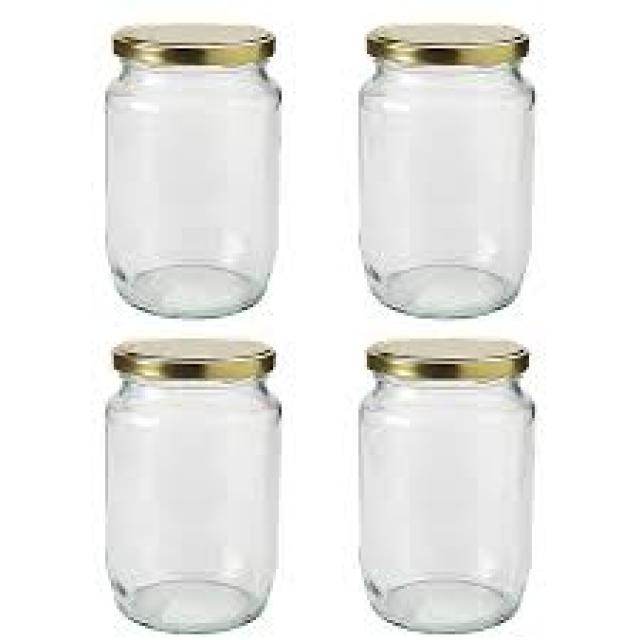Dry Waste: (102, 20, 288, 320)
